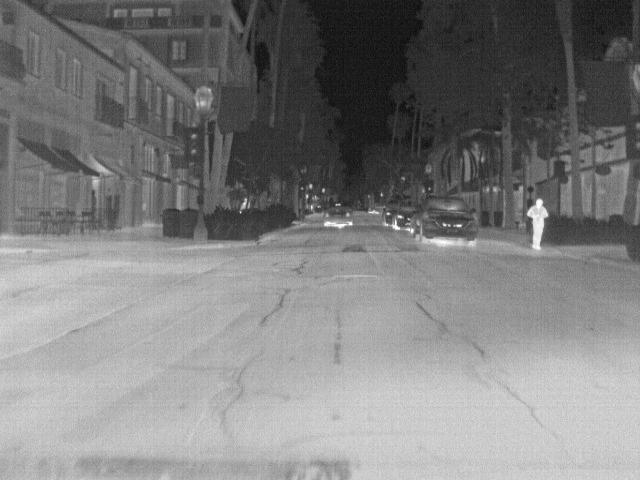car: (410, 196, 478, 246), (323, 204, 354, 230), (393, 204, 421, 232), (379, 200, 401, 228)
person: (526, 196, 551, 251), (240, 196, 253, 212)
